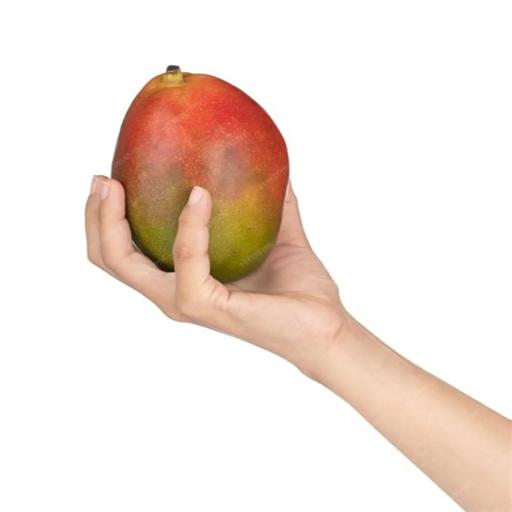mango: (112, 67, 288, 282)
